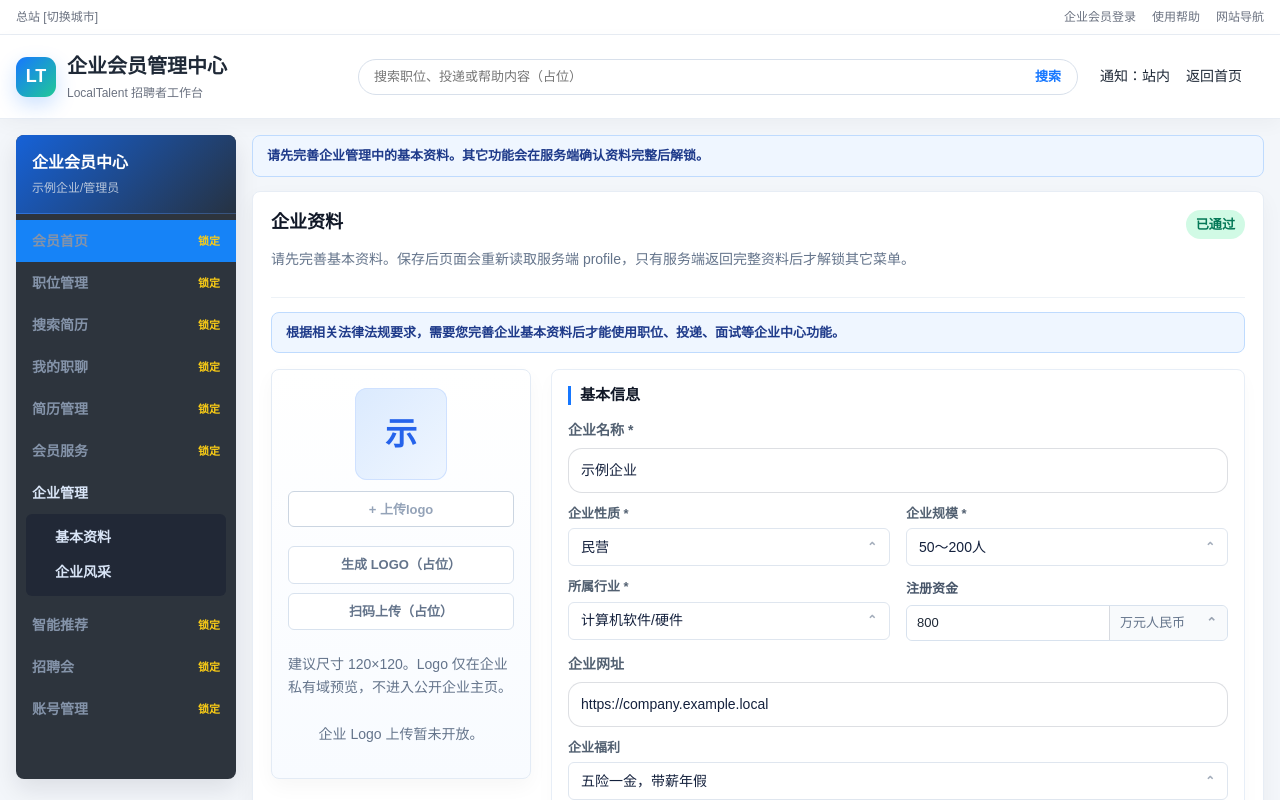
CompanyDashboard › keeps tabs locked when contact required fields are missing but still allows company style
Check: the text "请先完善企业管理中的基本资料。其它功能会在服务端确认资料完整后解锁。" is shown, box [252, 135, 1264, 176]
Click the button "企业风采" at {"x": 126, "y": 572}, box [26, 555, 226, 590]
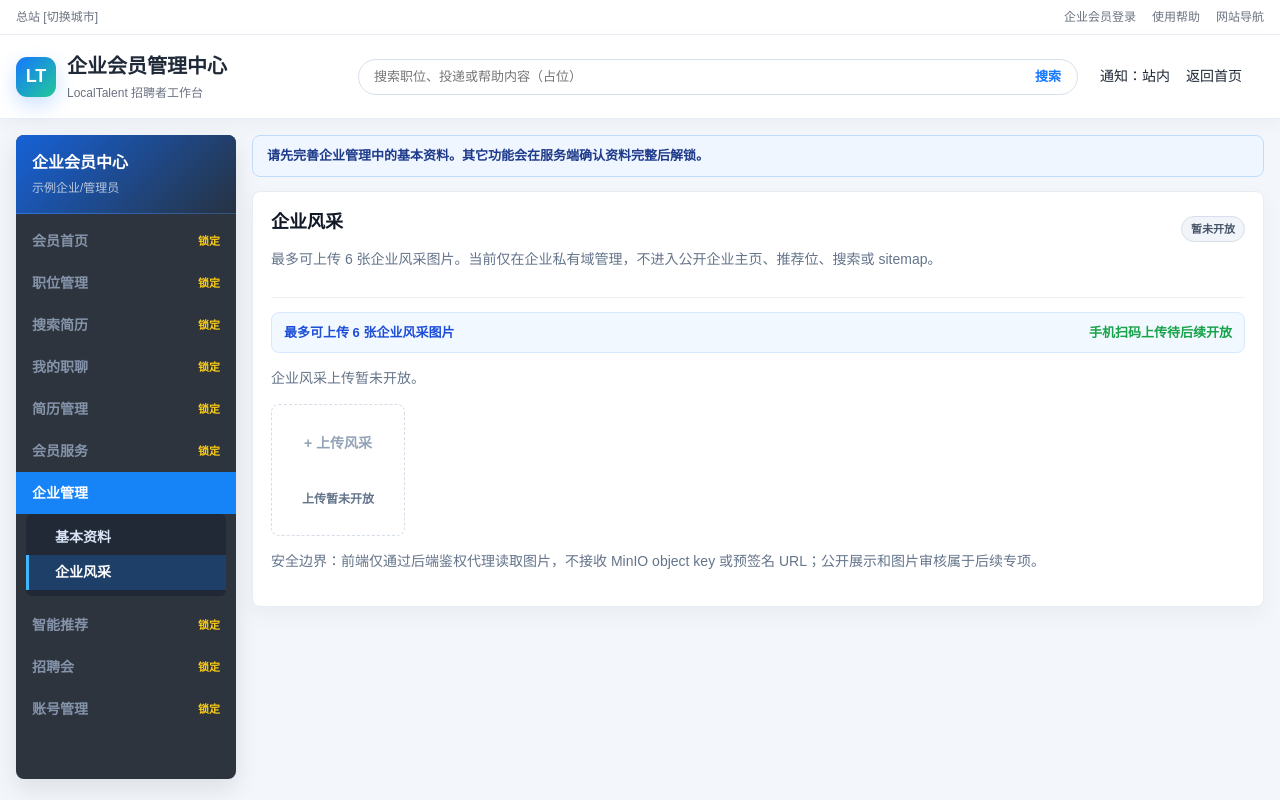
Click the button "职位管理 锁定" at {"x": 126, "y": 283}, box [16, 262, 236, 304]
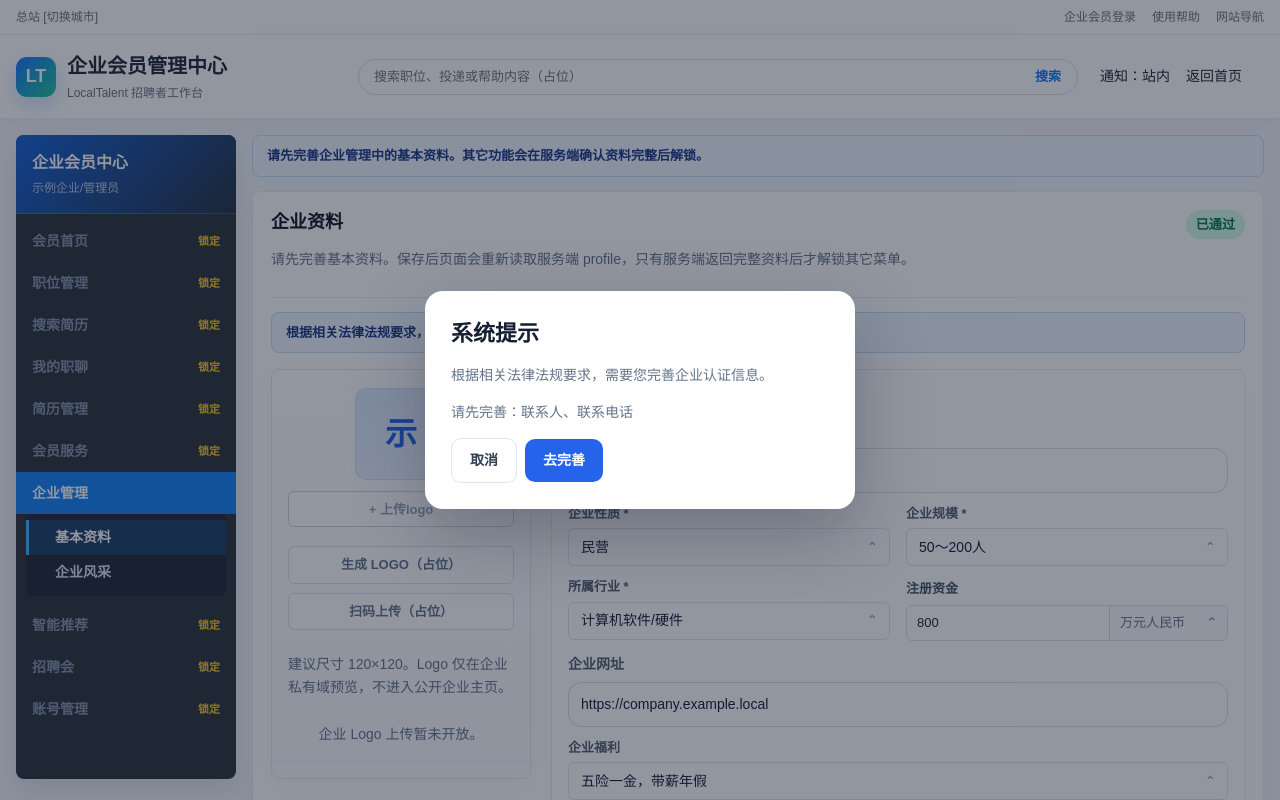
Check: the dialog "系统提示" is shown
Check: the text "请先完善：联系人、联系电话" is shown, box [451, 404, 633, 420]
Check: the heading "企业资料" is shown, box [271, 212, 343, 232]
